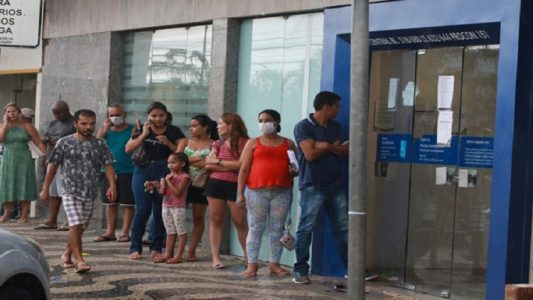with_mask: (257, 113, 278, 135), (106, 109, 127, 127)
without_mask: (74, 113, 96, 137), (147, 109, 167, 128), (189, 121, 209, 138), (165, 155, 185, 172), (217, 118, 233, 137), (3, 106, 20, 122)
